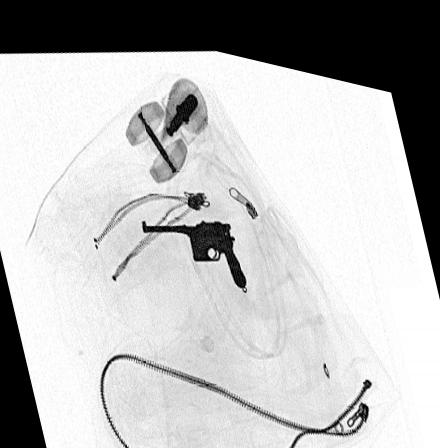Gun: (140, 209, 245, 277)
